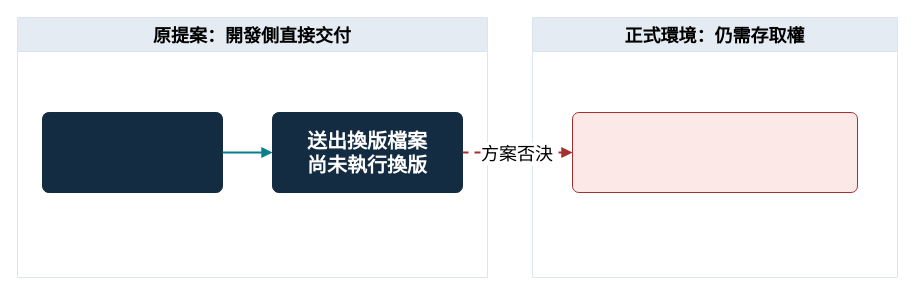
This 915x295 diagram has some shape labels left out. The centre of each missing label's shape, as x and y in pixels:
"GitLab Runner 自動建置工具" belongs at (132,152).
"寫入正式主機 已構成存取" belongs at (715,152).
